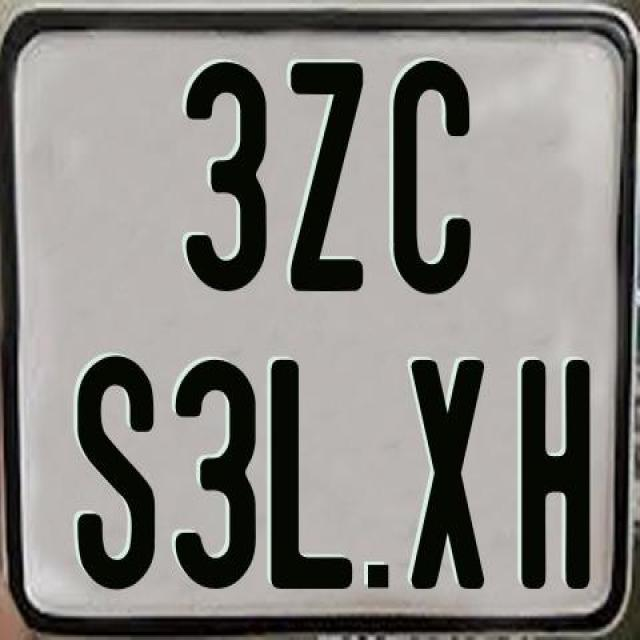3: (186, 58, 270, 296), (174, 360, 254, 590)
C: (390, 59, 468, 294)
H: (518, 360, 594, 598)
L: (269, 357, 359, 590)
S: (73, 355, 152, 600)
X: (410, 360, 490, 598)
Z: (286, 61, 364, 293)
